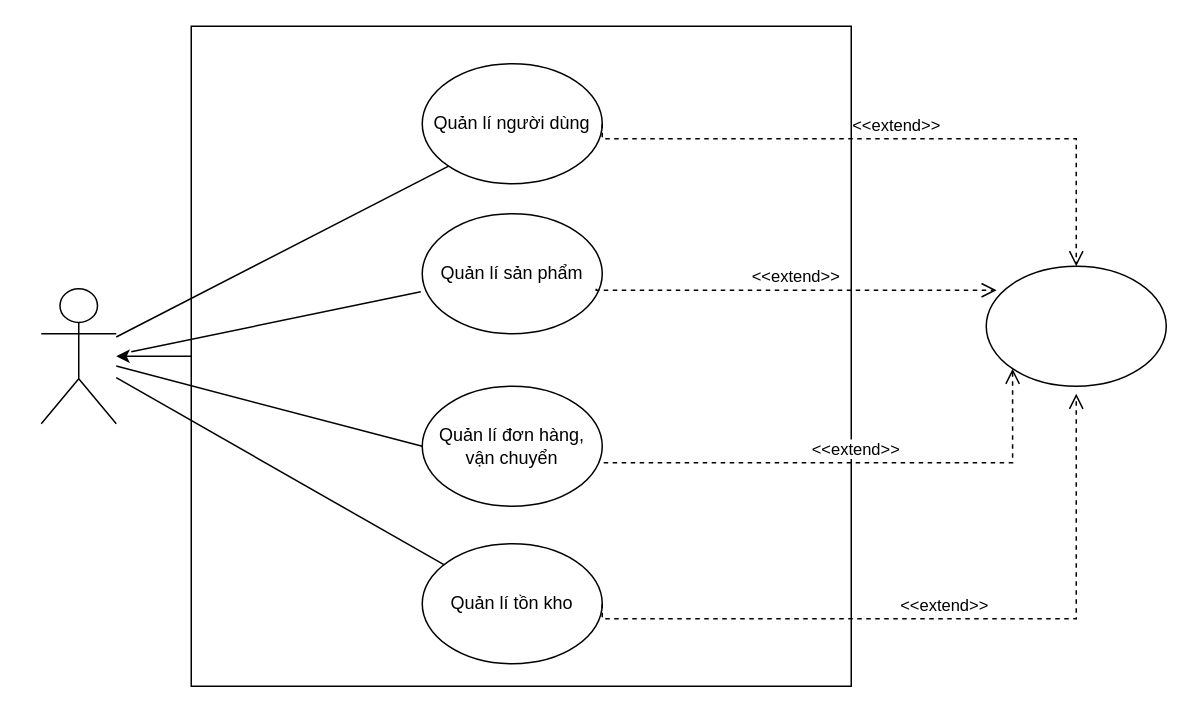
The diagram is 1193 pixels wide and 713 high, and some of its shapes have lost their labels. Here are the shapes that lost their labels. From the top down, the centre of each, then its label:
At (1075,325): "Đăng nhập hệ thống".
At (78,355): "Quán trị viên".
